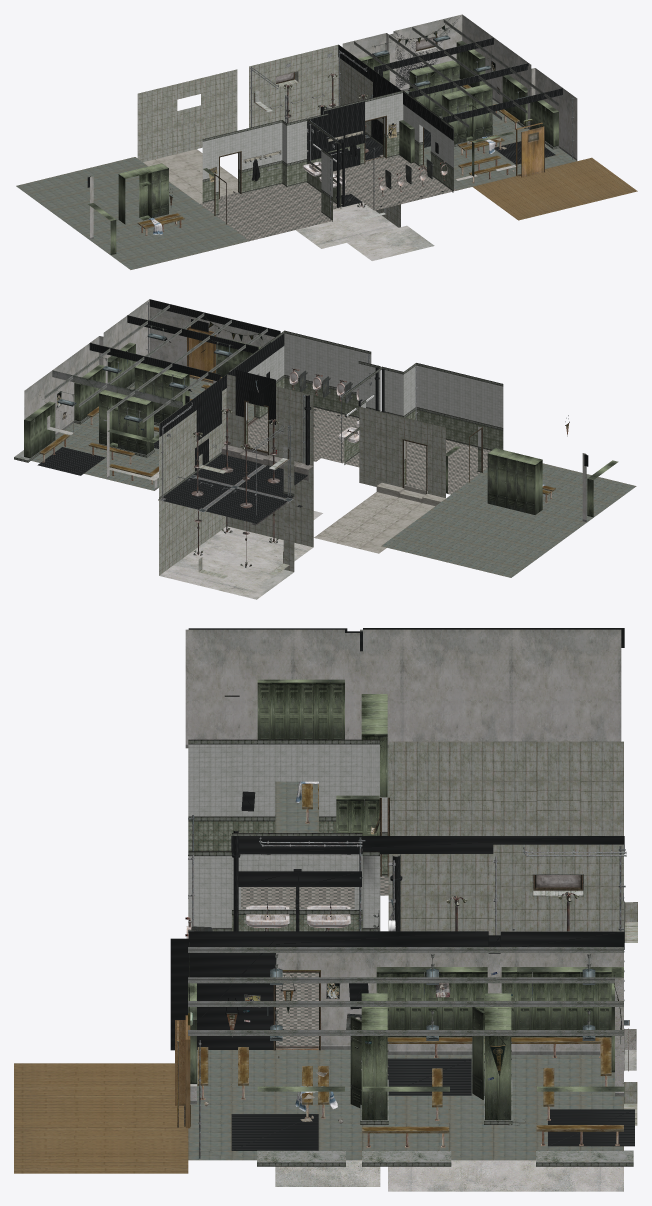
File: toilet_2.glb
3 views of the same model, one above another, from view 1: azimuth 30°, elevation 25°; view 2: azimuth 150°, elevation 25°; view 3: azimuth 270°, elevation 25° (orthographic). The views are drawn at different scales.
Visible parts, largest first — view 1: FrontSide_28, FrontSide_19, FrontSide_3, BackSide_0, FrontSide_40, FrontSide_11, FrontSide_2, FrontSide_36, FrontSide_38, FrontSide_8, FrontSide_17, FrontSide_54 (+6 smaller); view 2: FrontSide_19, FrontSide_28, BackSide_0, FrontSide_3, FrontSide_11, FrontSide_2, FrontSide_8, FrontSide_40, FrontSide_38, FrontSide_54, FrontSide_17, FrontSide_45 (+7 smaller); view 3: FrontSide_3, FrontSide_19, BackSide_0, FrontSide_28, FrontSide_38, FrontSide_8, FrontSide_36, FrontSide_11, FrontSide_2, FrontSide_59, FrontSide_40, FrontSide_17 (+5 smaller).
Boxes of the visible parts, x1=… form: FrontSide_28: x1=16, y1=86, x2=576, y2=269; FrontSide_19: x1=137, y1=44, x2=400, y2=227; FrontSide_3: x1=90, y1=14, x2=577, y2=260; BackSide_0: x1=87, y1=16, x2=562, y2=207; FrontSide_40: x1=200, y1=155, x2=457, y2=241; FrontSide_11: x1=202, y1=93, x2=453, y2=219; FrontSide_2: x1=118, y1=60, x2=492, y2=224; FrontSide_36: x1=472, y1=157, x2=637, y2=220; FrontSide_38: x1=88, y1=41, x2=558, y2=254; FrontSide_8: x1=202, y1=19, x2=559, y2=221; FrontSide_17: x1=202, y1=134, x2=453, y2=220; FrontSide_54: x1=143, y1=149, x2=237, y2=203; FrontSide_19: x1=159, y1=374, x2=445, y2=578; FrontSide_28: x1=31, y1=378, x2=636, y2=577; BackSide_0: x1=37, y1=299, x2=588, y2=523; FrontSide_3: x1=24, y1=299, x2=586, y2=599; FrontSide_11: x1=246, y1=333, x2=503, y2=459; FrontSide_2: x1=99, y1=363, x2=542, y2=514; FrontSide_8: x1=14, y1=304, x2=503, y2=525; FrontSide_40: x1=247, y1=407, x2=490, y2=494; FrontSide_38: x1=24, y1=337, x2=618, y2=517; FrontSide_54: x1=314, y1=482, x2=445, y2=553; FrontSide_17: x1=246, y1=377, x2=503, y2=483; FrontSide_45: x1=146, y1=302, x2=417, y2=515; FrontSide_3: x1=185, y1=629, x2=636, y2=1191; FrontSide_19: x1=388, y1=741, x2=637, y2=1125; BackSide_0: x1=170, y1=628, x2=634, y2=1150; FrontSide_28: x1=188, y1=748, x2=623, y2=1160; FrontSide_38: x1=188, y1=679, x2=624, y2=1091; FrontSide_8: x1=188, y1=739, x2=633, y2=1166; FrontSide_36: x1=14, y1=1063, x2=188, y2=1173; FrontSide_11: x1=188, y1=744, x2=388, y2=930; FrontSide_2: x1=350, y1=694, x2=511, y2=1120; FrontSide_59: x1=197, y1=783, x2=623, y2=1147; FrontSide_40: x1=241, y1=876, x2=388, y2=1049; FrontSide_17: x1=188, y1=821, x2=387, y2=931.
Size of the model in its own units: 25.82 by 7.77 by 15.92.
61 materials, 61 textured.
